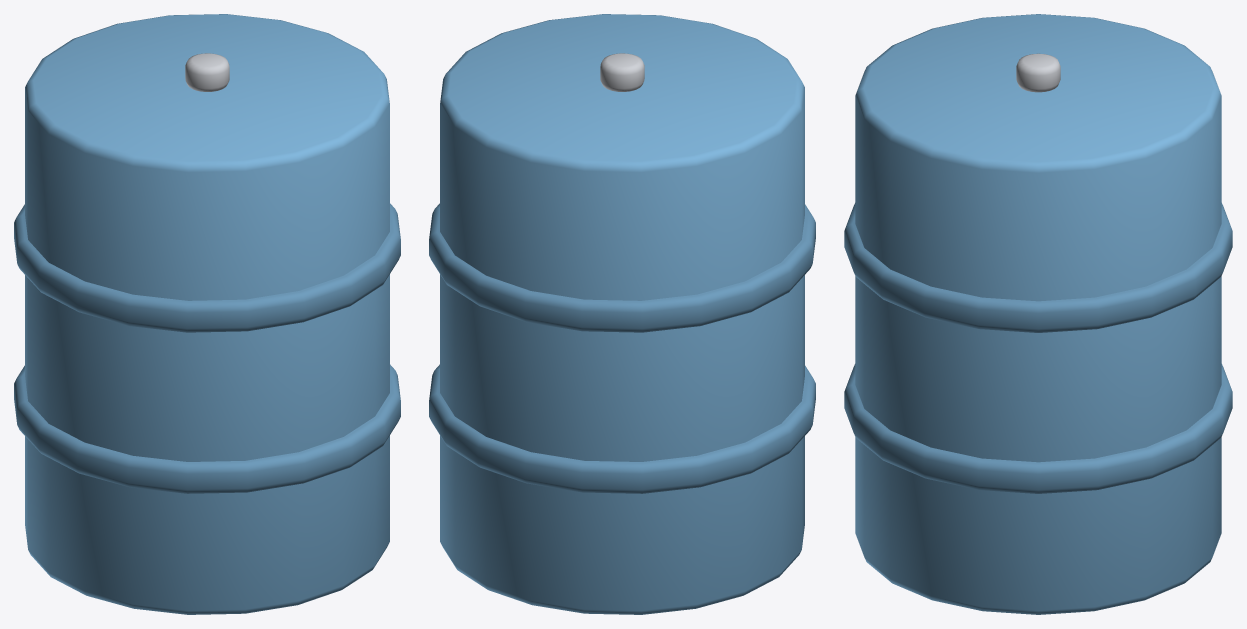
File: бочка.glb
3 renders of one model, left to right at view 1: azimuth 30°, elevation 25°; view 2: azimuth 150°, elevation 25°; view 3: azimuth 270°, elevation 25°, orthographic.
Parts seen in each view (by area): view 1: бочка; view 2: бочка; view 3: бочка.
Part boxes in pixels (left/top/right/bottom): бочка: left=14, top=14, right=400, bottom=614; бочка: left=429, top=14, right=815, bottom=614; бочка: left=844, top=14, right=1232, bottom=614.
Size of the model in its own units: 0.7 by 0.955 by 0.7.
